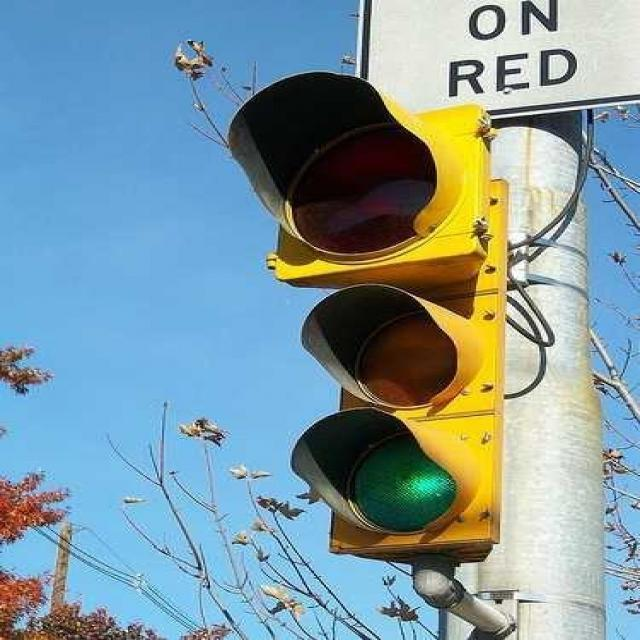red_light: (222, 49, 506, 563), (233, 68, 499, 270), (284, 402, 494, 546), (306, 284, 498, 412)
